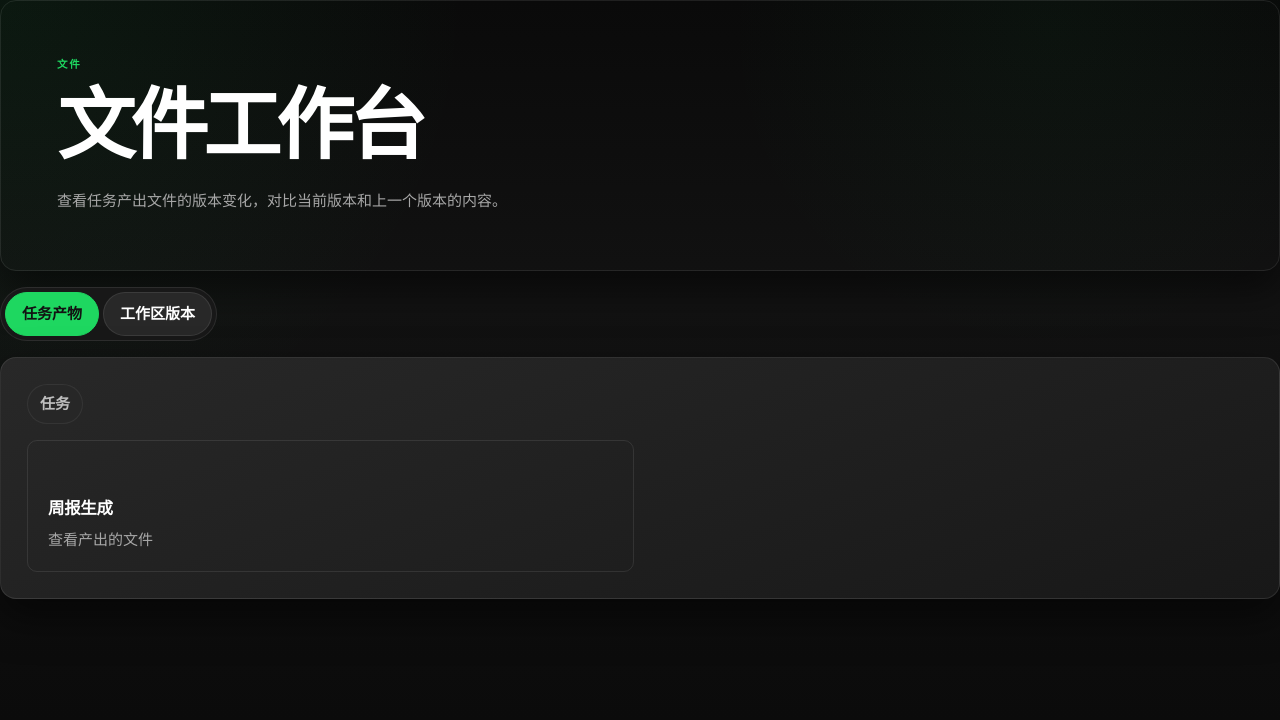
Test: FilesCenter 两级导航 › 展开 Advanced 折叠区懒加载版本元信息（技术字段仅此区）
Click the text "周报生成": (80,508) [48, 498, 113, 518]
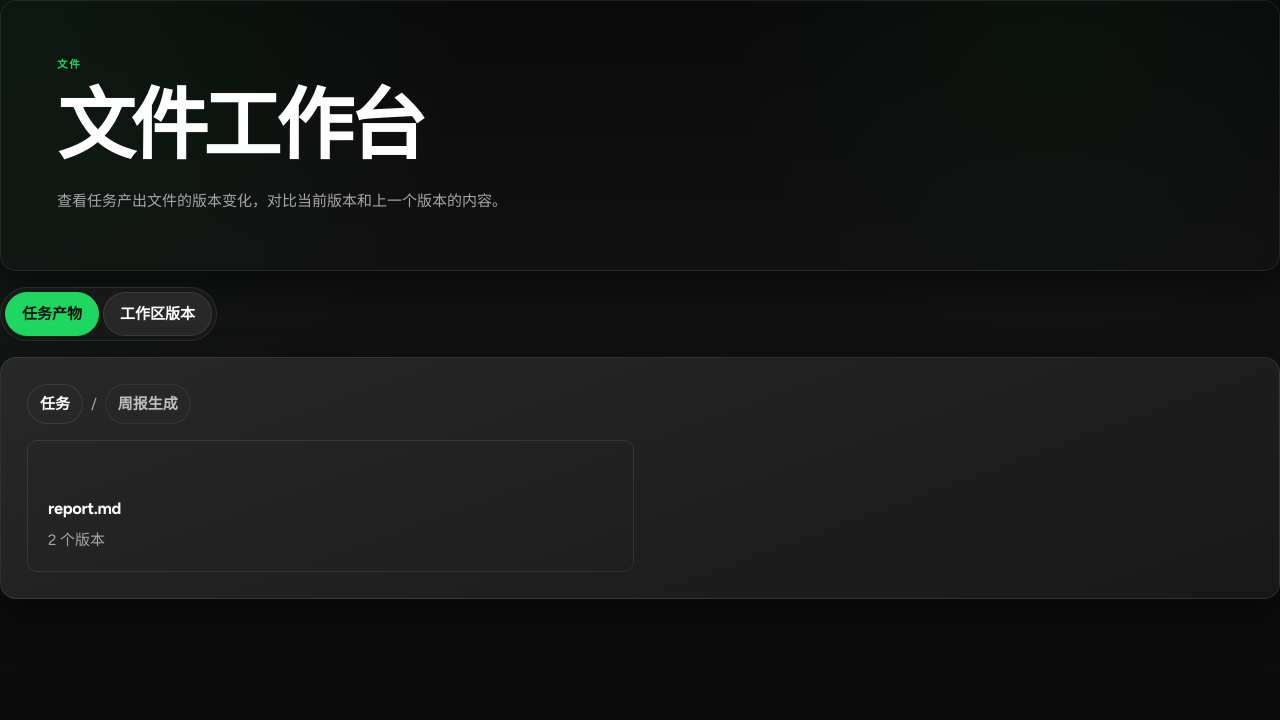
Result: the text "report.md" is shown
Click the text "report.md": (85,508) [48, 498, 121, 518]
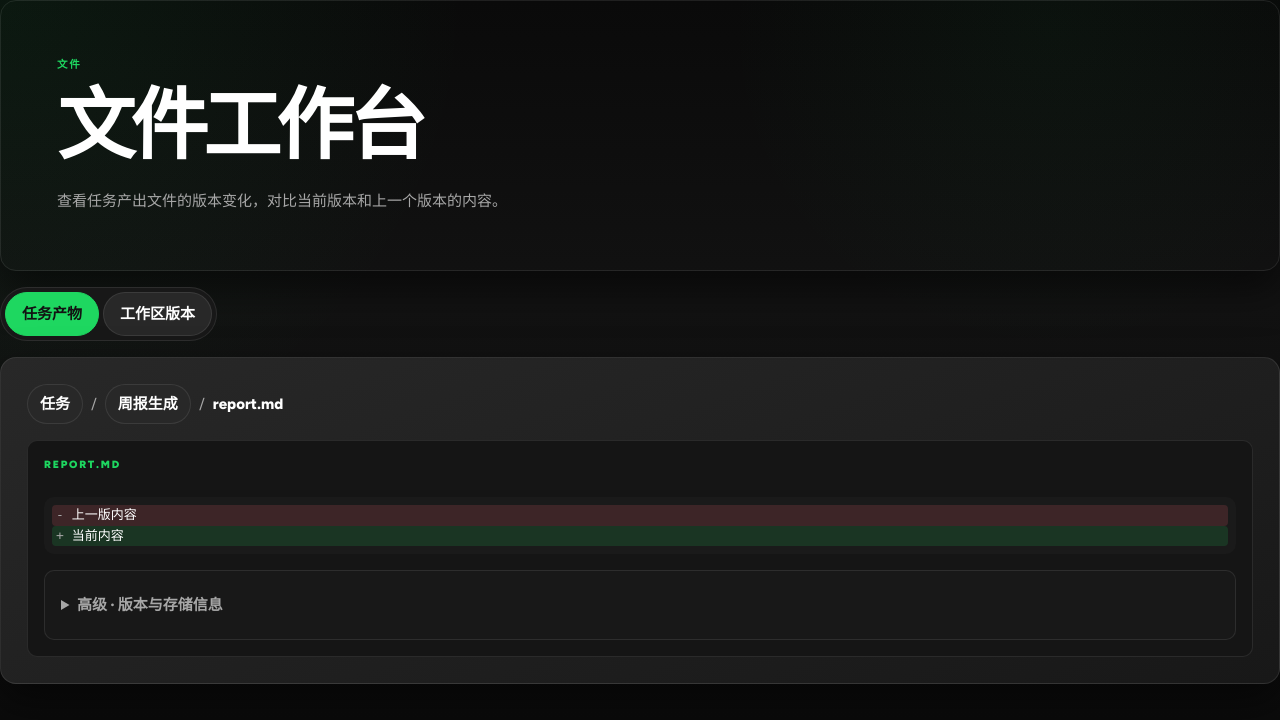
Result: the text "当前内容" is shown at [72, 528, 124, 542]
# 展开 Advanced 折叠区
Click the heading "高级 · 版本与存储信息": (150,605) [77, 596, 223, 614]
(page scrolled)
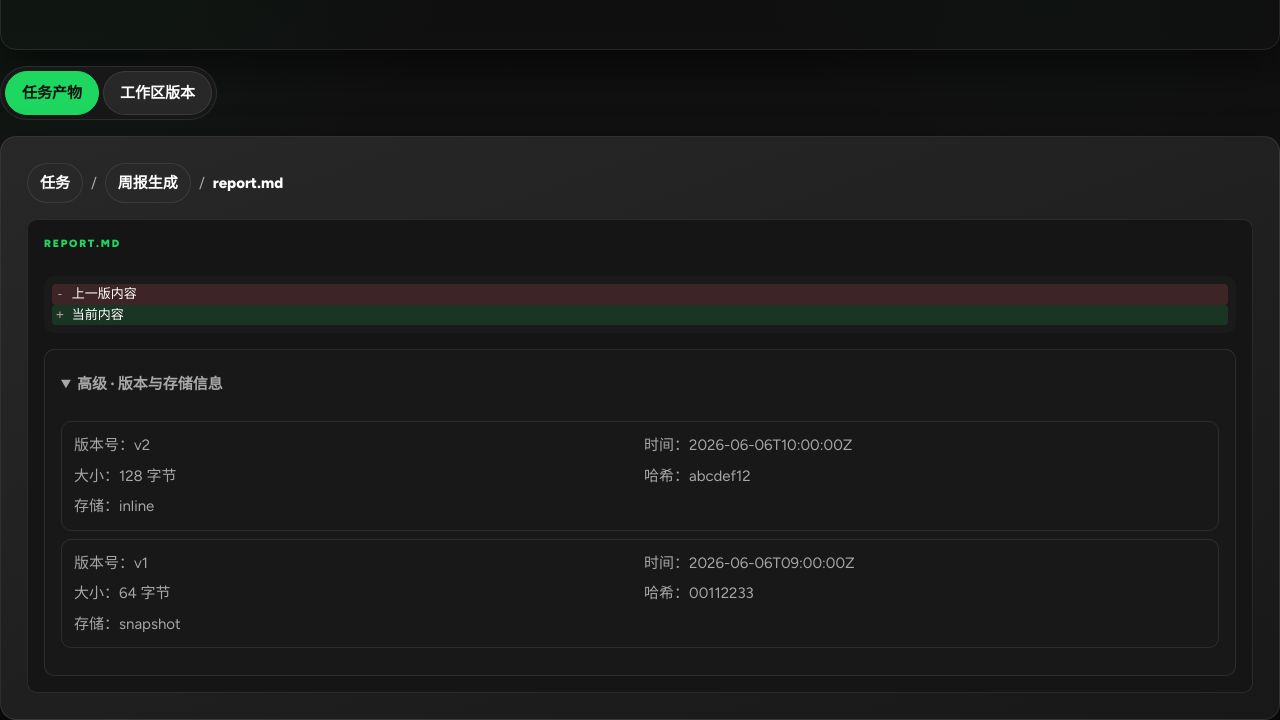
Result: the text "版本号：v2" is shown at [74, 436, 150, 454]
Result: the text "版本号：v1" is shown at [74, 554, 148, 572]
Result: the text "哈希：abcdef12" is shown at [644, 467, 751, 485]
